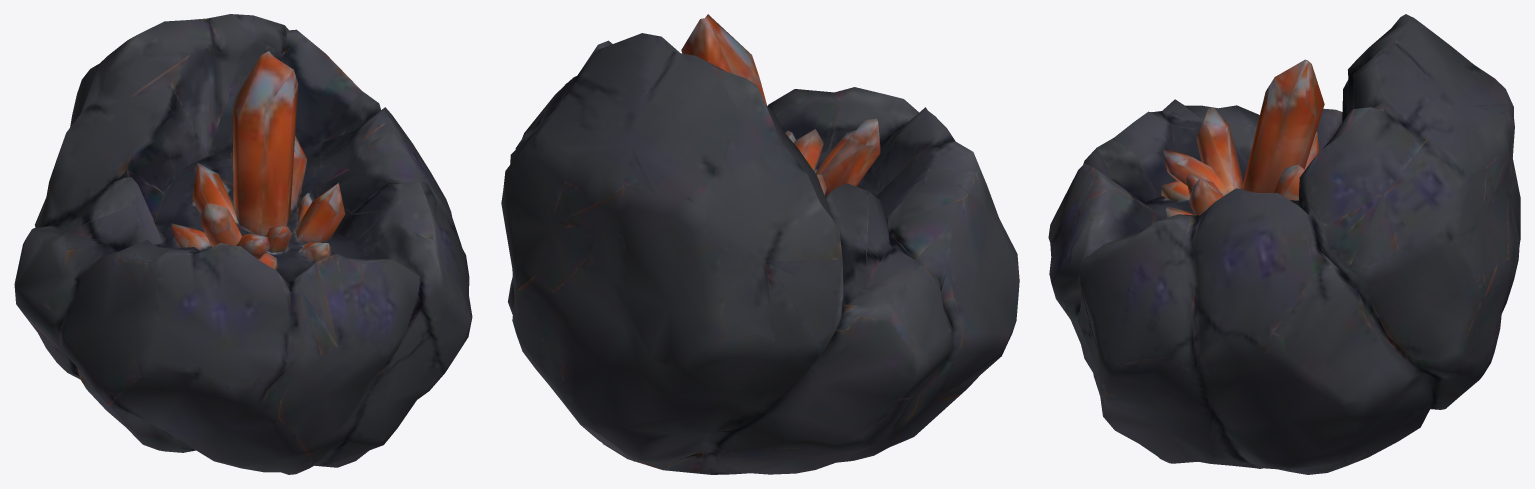
File: prop_node_ore_geode_hell.glb
The picture shows the model from 3 angles, left to right: view 1: azimuth 30°, elevation 25°; view 2: azimuth 150°, elevation 25°; view 3: azimuth 270°, elevation 25°; orthographic projection. The views are drawn at different scales.
Parts seen in each view (by area): view 1: tripo_node_c519e3aa-f8fc-41be-80db-6ed33f1a7bd1; view 2: tripo_node_c519e3aa-f8fc-41be-80db-6ed33f1a7bd1; view 3: tripo_node_c519e3aa-f8fc-41be-80db-6ed33f1a7bd1.
Part boxes in pixels (box(x1,y1,x2,y2)): tripo_node_c519e3aa-f8fc-41be-80db-6ed33f1a7bd1: box(14, 14, 472, 474); tripo_node_c519e3aa-f8fc-41be-80db-6ed33f1a7bd1: box(501, 14, 1019, 474); tripo_node_c519e3aa-f8fc-41be-80db-6ed33f1a7bd1: box(1048, 14, 1520, 474).
Size of the model in its own units: 0.998 by 0.9589 by 0.998.
1 material, 1 textured.
